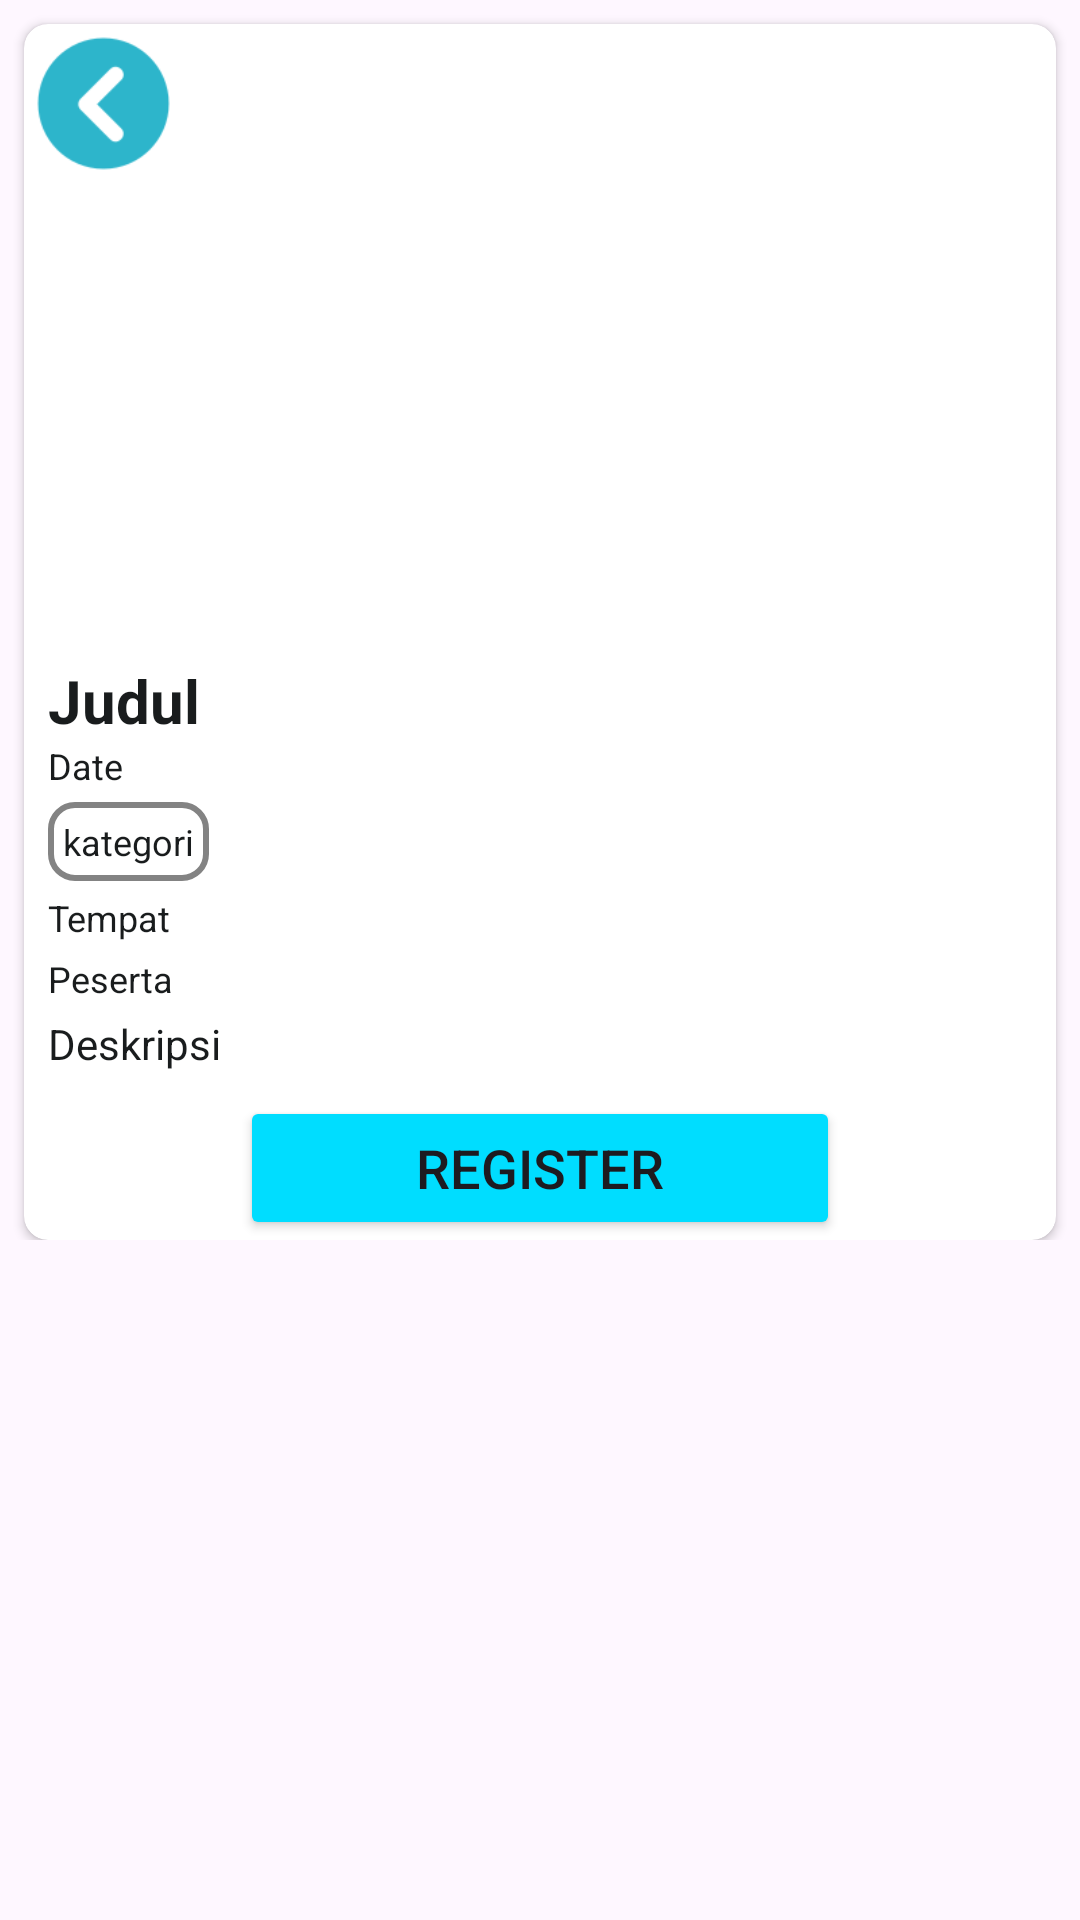

Named icons in this screenshot (1080px×1920px) and their bounding boxes, (x1=x1, y1=y1, x2=x2, y2=y2):
back: (x1=37, y1=37, x2=170, y2=170)
